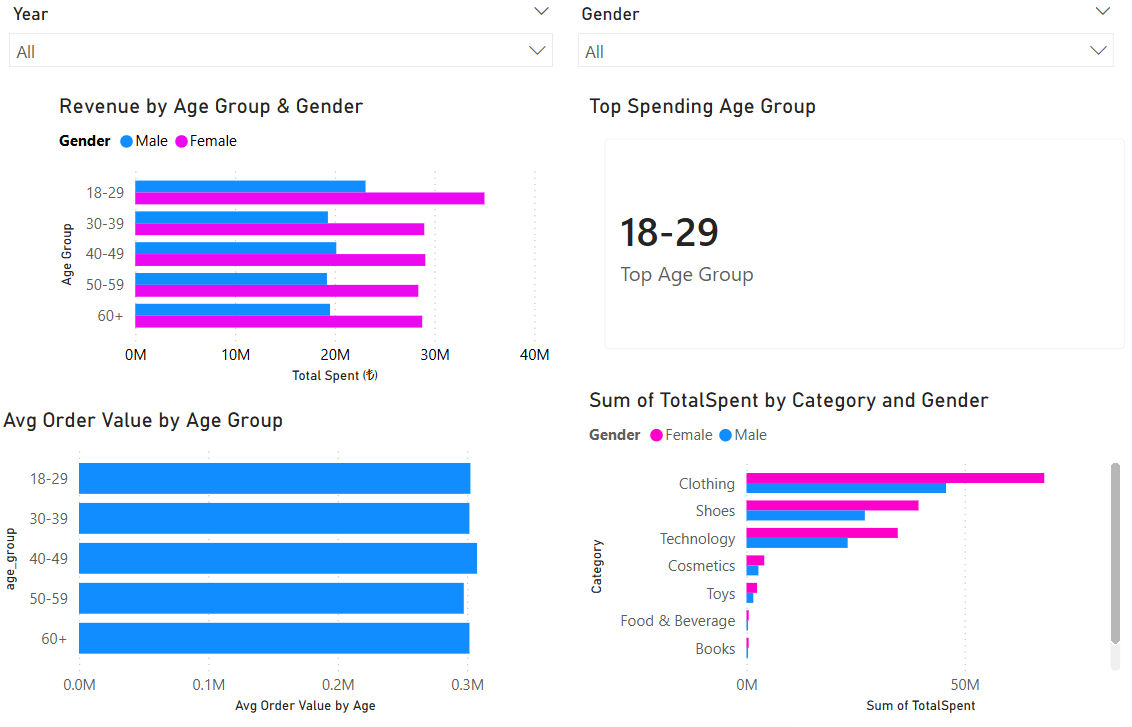

Layout of this report page (visuals, bound fields, positions):
{"tool":"powerbi","page":{"name":"Customer Demographics","canvas":[1280,720],"ordinal":1},"visuals":[{"type":"clusteredBarChart","title":"Revenue by Age Group & Gender","fields":{"Category":["vw_CustomerInsights.age_group"],"Y":["Sum(vw_CustomerInsights.TotalSpent)"],"Series":["vw_CustomerInsights.Gender"]},"box":[0,70,486,237],"z":0},{"type":"slicer","fields":{"Values":["vw_SalesSummary.Year"]},"box":[0,0,432,67],"z":1000},{"type":"slicer","fields":{"Values":["vw_CustomerInsights.Gender"]},"box":[430,0,650,57],"z":2000},{"type":"clusteredBarChart","fields":{"Category":["vw_CustomerInsights.Category"],"Y":["Sum(vw_CustomerInsights.TotalSpent)"],"Series":["vw_CustomerInsights.Gender"]},"box":[486,320,564,266],"z":3000},{"type":"clusteredBarChart","title":"Avg Order Value by Age Group","fields":{"Category":["vw_CustomerInsights.age_group"],"Y":["vw_CustomerInsights.Avg Order Value by Age"]},"box":[0,320,486,250],"z":4000},{"type":"cardVisual","title":"Top Spending Age Group","fields":{"Data":["vw_CustomerInsights.Top Age Group"]},"box":[486,84,786,223],"z":5000}]}

Visuals, with their boxes on the page's 1280x720 design canvas (x1, y1, x2, y2). These are canvas units, not pixel positions in the 1132x727 screenshot, which may show the page scaled, cropped or inside an application window:
"Revenue by Age Group & Gender" clusteredBarChart: 0 70 486 307
slicer - vw_SalesSummary.Year: 0 0 432 67
slicer - vw_CustomerInsights.Gender: 430 0 1080 57
clusteredBarChart - vw_CustomerInsights.Category x Sum(vw_CustomerInsights.TotalSpent): 486 320 1050 586
"Avg Order Value by Age Group" clusteredBarChart: 0 320 486 570
"Top Spending Age Group" cardVisual: 486 84 1272 307
